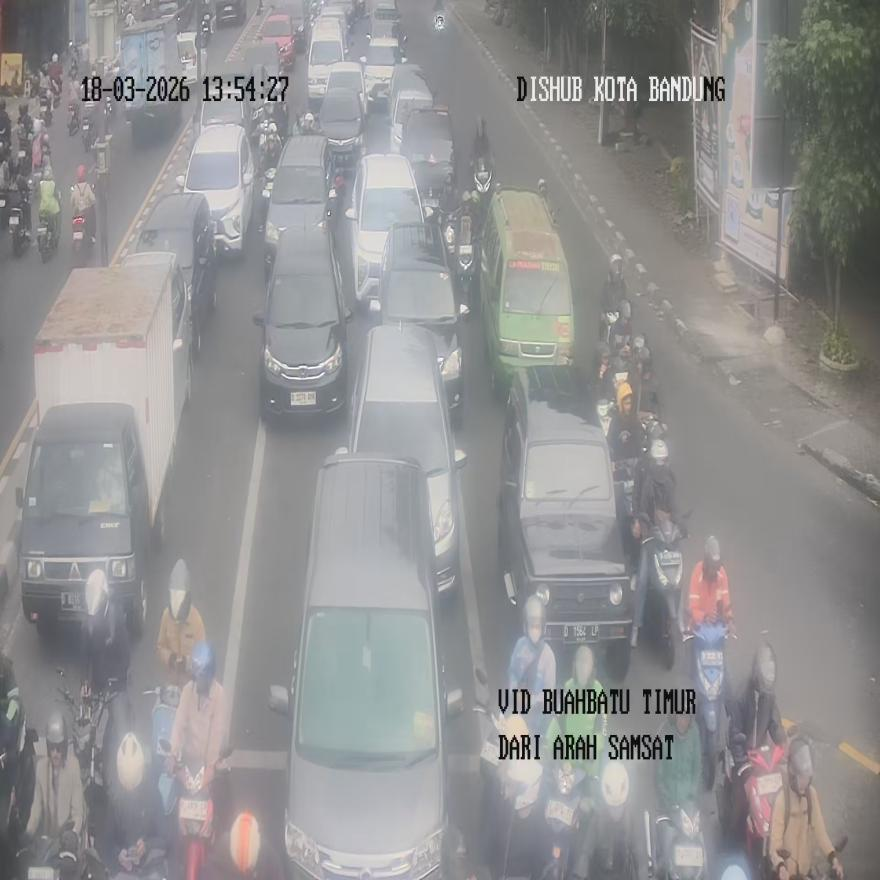Motor: (268, 448, 462, 877), (15, 254, 190, 638), (498, 365, 635, 676), (350, 325, 465, 596), (477, 180, 575, 397), (253, 223, 352, 417), (377, 219, 468, 424), (129, 190, 215, 356), (346, 152, 430, 309), (261, 135, 337, 282), (176, 122, 253, 254)
Truk: (55, 667, 129, 828), (479, 710, 544, 879), (162, 741, 233, 880), (718, 738, 787, 878), (682, 618, 736, 792), (634, 510, 689, 669), (0, 707, 38, 879), (82, 569, 130, 695), (142, 684, 181, 816), (646, 804, 707, 880), (442, 203, 475, 295), (36, 178, 60, 261), (7, 180, 32, 257), (259, 129, 280, 203), (72, 212, 94, 266), (81, 104, 97, 151), (66, 101, 79, 135), (201, 13, 213, 47), (434, 2, 446, 35)
